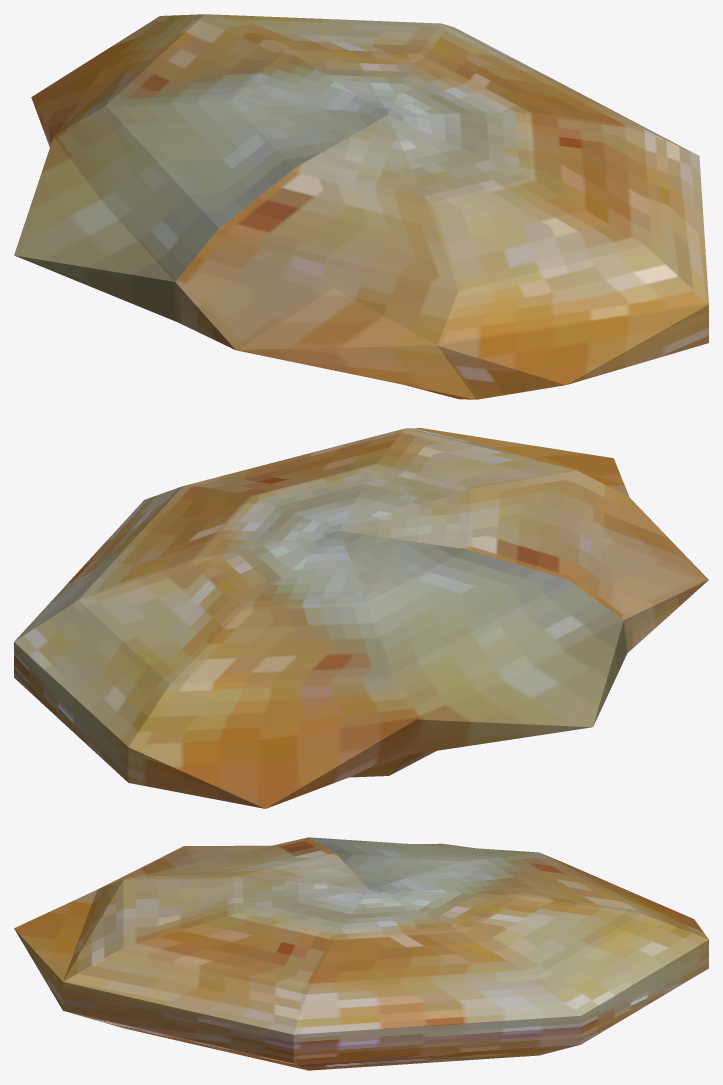
The model's file is pierog.glb.
The picture shows the model from 3 angles, top to bottom: view 1: azimuth 30°, elevation 25°; view 2: azimuth 150°, elevation 25°; view 3: azimuth 270°, elevation 25°; orthographic projection. The views are drawn at different scales.
Visible parts, largest first — view 1: Sphere; view 2: Sphere; view 3: Sphere.
Part boxes in pixels (bbox=[...]): Sphere: bbox=[14, 14, 708, 399]; Sphere: bbox=[14, 428, 708, 808]; Sphere: bbox=[14, 837, 708, 1070].
Bounding box in the file's own units: 0.73 × 0.2069 × 1.01.
Materials: 1 (1 with a texture image).
